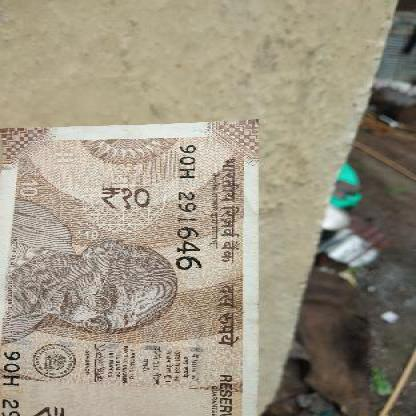New10Front: (0, 127, 256, 414)
